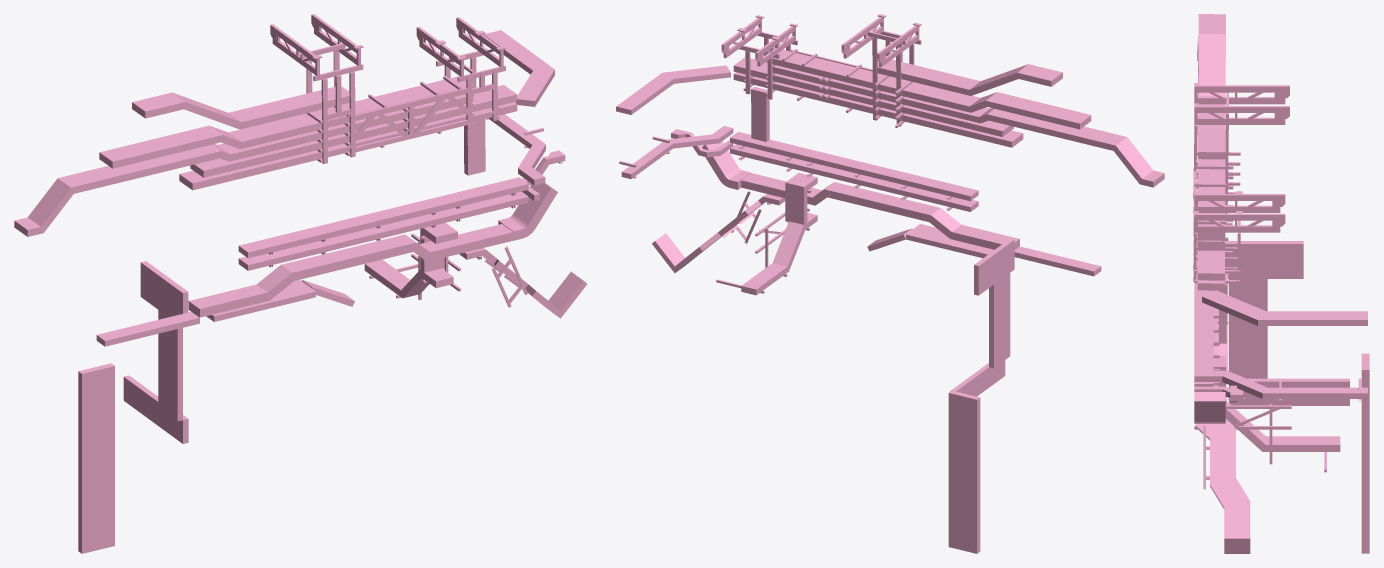
The model's file is Serv-Z0-Sec9-cut1.glb.
The picture shows the model from 3 angles, left to right: view 1: azimuth 30°, elevation 25°; view 2: azimuth 150°, elevation 25°; view 3: azimuth 270°, elevation 25°; orthographic projection. The views are drawn at different scales.
Visible parts, largest first — view 1: Serv-Z0-Sec9-cut1, Serv-Z0-Sec9-Frames-cut1; view 2: Serv-Z0-Sec9-cut1, Serv-Z0-Sec9-Frames-cut1; view 3: Serv-Z0-Sec9-cut1, Serv-Z0-Sec9-Frames-cut1.
Boxes of the visible parts, x1,y1,x2,y2 form: Serv-Z0-Sec9-cut1: [14, 30, 587, 553]; Serv-Z0-Sec9-Frames-cut1: [269, 14, 562, 307]; Serv-Z0-Sec9-cut1: [616, 49, 1164, 553]; Serv-Z0-Sec9-Frames-cut1: [619, 14, 952, 293]; Serv-Z0-Sec9-cut1: [1194, 14, 1369, 553]; Serv-Z0-Sec9-Frames-cut1: [1193, 83, 1361, 489].
Bounding box in the file's own units: 10.41 × 9.01 × 2.72.
